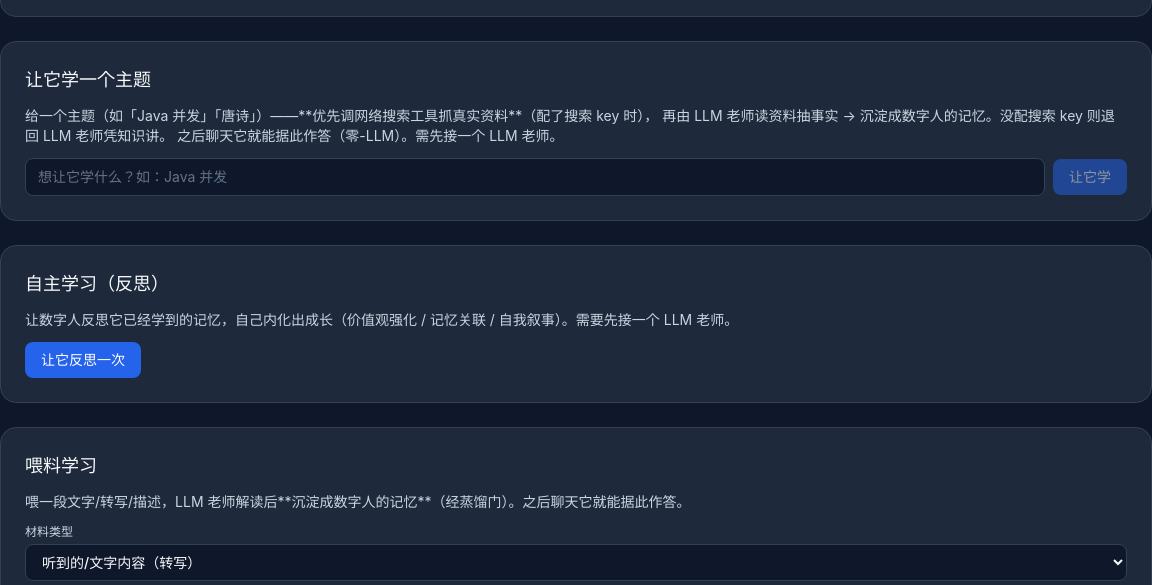
Scenario: CompanionLearningPage（LLM 老师学习） › 反思 → 调 reflect + 渲染结果
(page scrolled)
Click the button "让它反思一次": (83, 360) [25, 342, 141, 378]
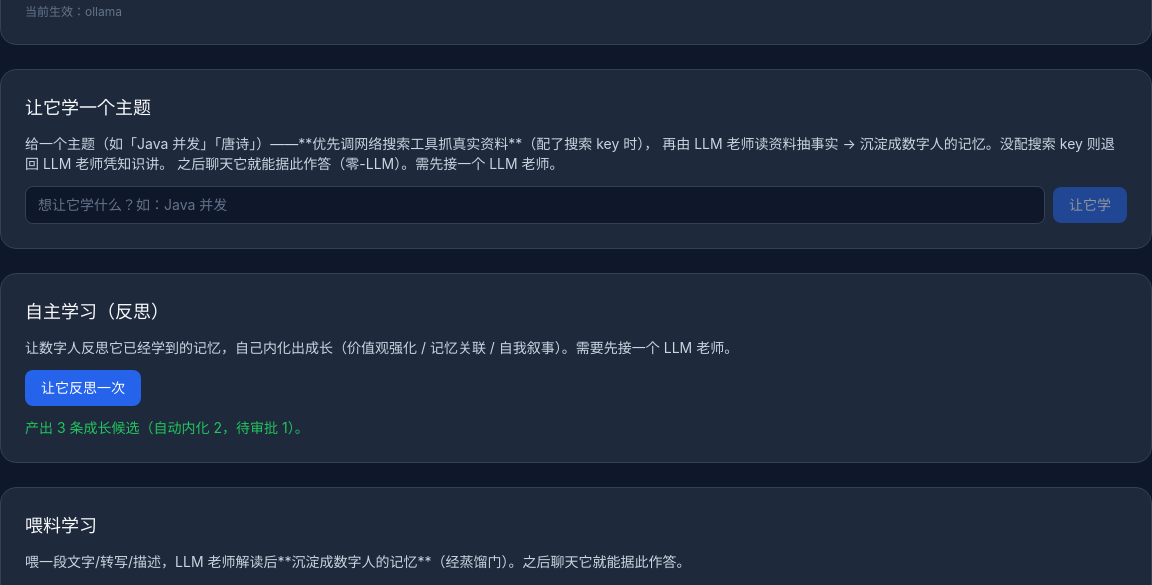
Check: the text "产出 3 条成长候选（自动内化 2，待审批 1）。" is shown, box [25, 419, 309, 436]
